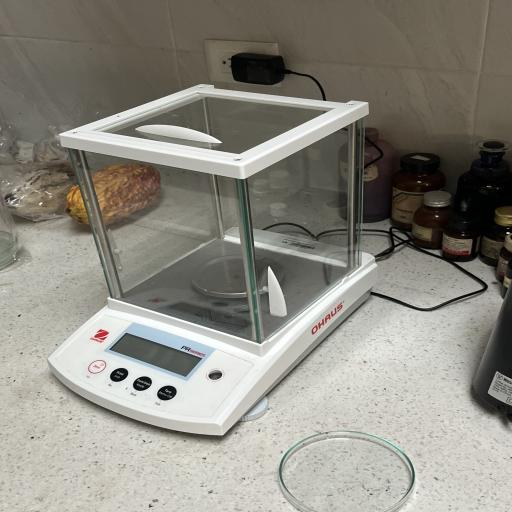Balanza_Analitica_Ohaus: (47, 82, 387, 446)
